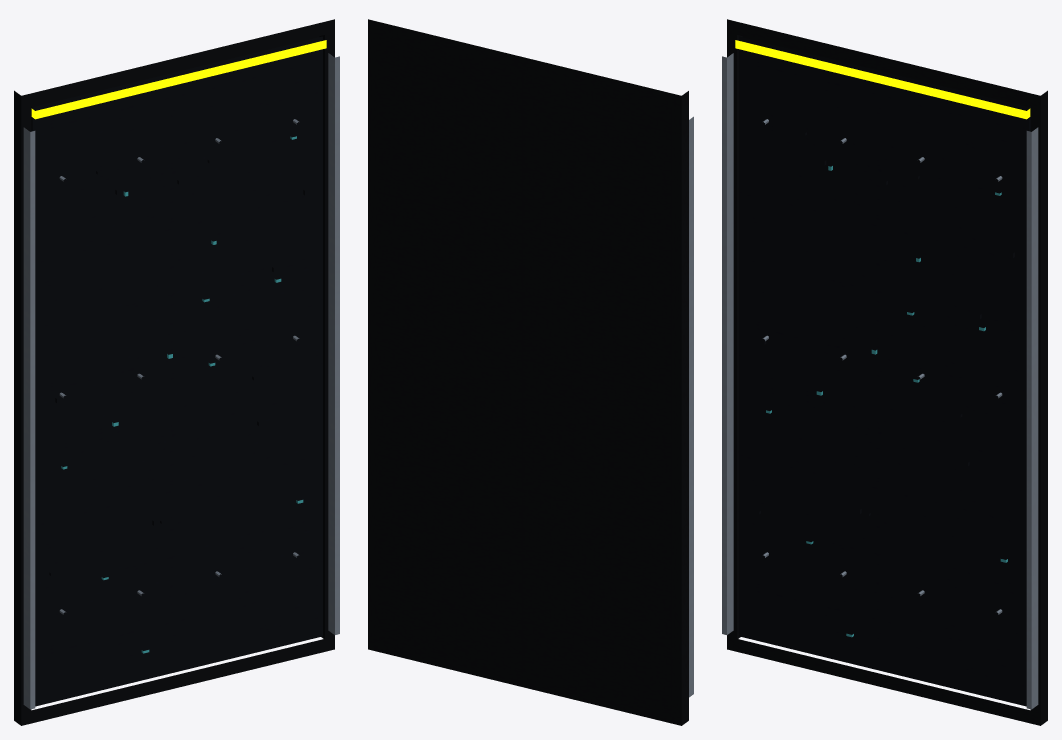
Rendered from tt_climb_train_board_spray.glb.
3 views of the same model, side by side, from view 1: azimuth 30°, elevation 25°; view 2: azimuth 150°, elevation 25°; view 3: azimuth 330°, elevation 25° (orthographic).
Visible parts, largest first — view 1: Spray_Face, Frame, Side_Trim, Top_LED; view 2: Frame, Side_Trim; view 3: Spray_Face, Frame, Side_Trim, Top_LED.
Part boxes in pixels (x1=…): Spray_Face: x1=31, y1=36, x2=322, y2=706; Frame: x1=14, y1=19, x2=334, y2=725; Side_Trim: x1=23, y1=53, x2=339, y2=709; Top_LED: x1=31, y1=40, x2=326, y2=119; Frame: x1=368, y1=19, x2=688, y2=725; Side_Trim: x1=689, y1=116, x2=693, y2=697; Spray_Face: x1=739, y1=36, x2=1030, y2=706; Frame: x1=727, y1=19, x2=1047, y2=725; Side_Trim: x1=722, y1=53, x2=1038, y2=709; Top_LED: x1=735, y1=40, x2=1030, y2=119.
Size of what is drawn, in the model's own units: 1.25 by 2.4 by 0.098.
Materials: 6 (4 with a texture image).
